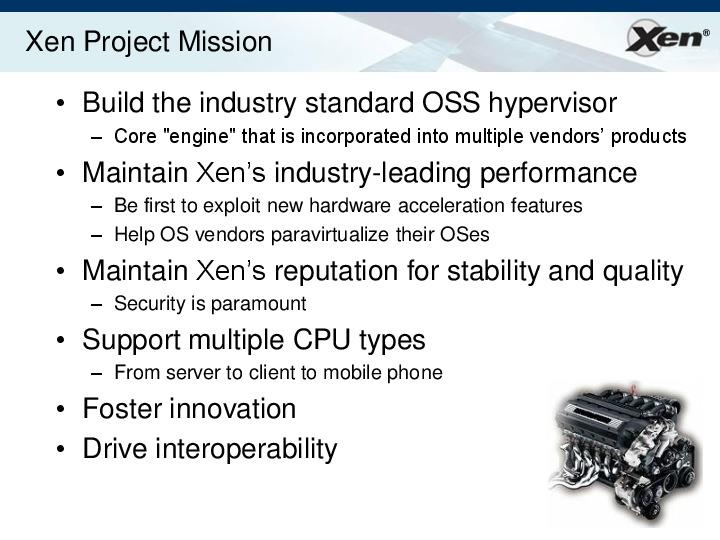paragraph: (45, 74, 705, 487)
title: (19, 22, 283, 66)
